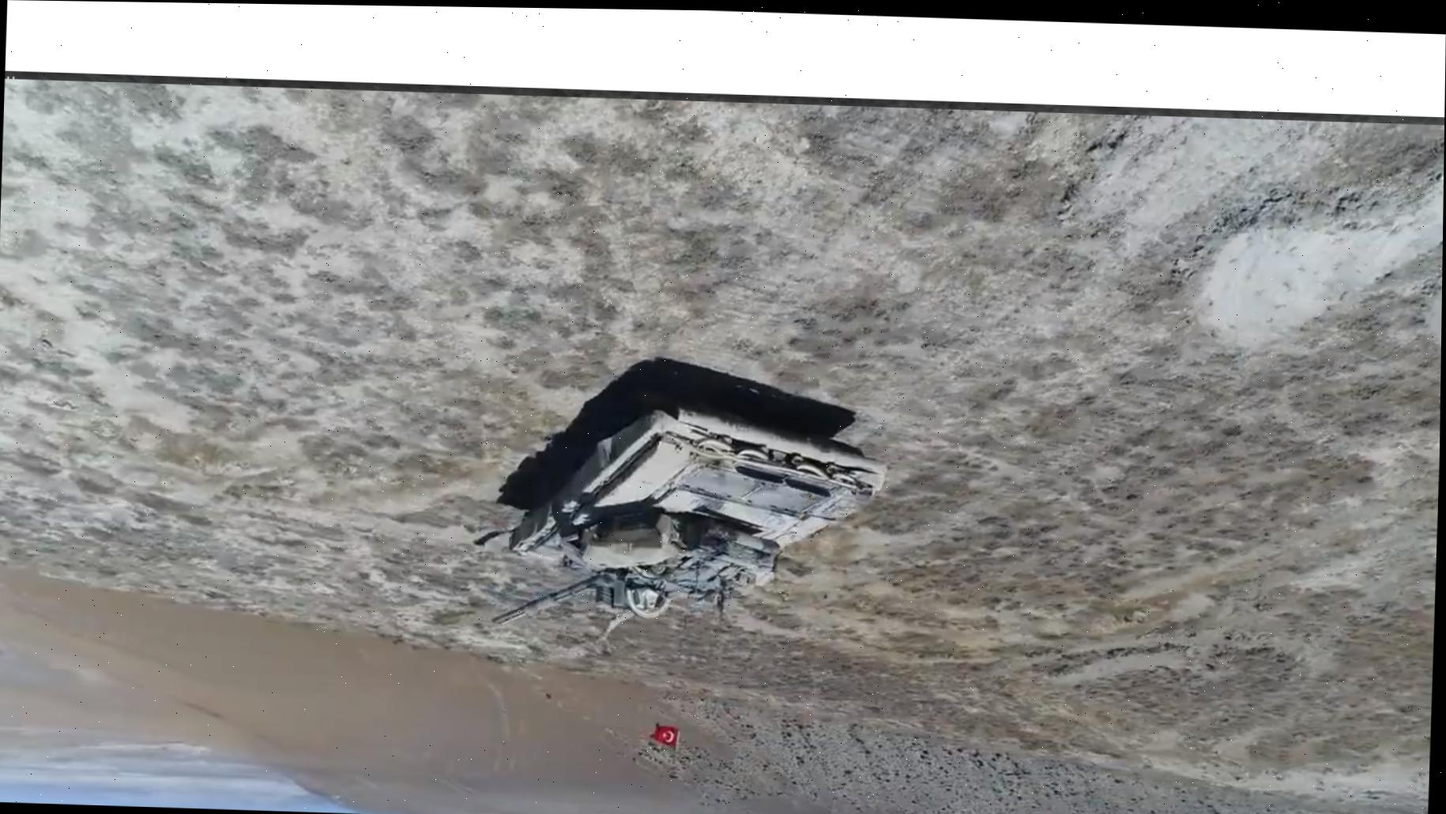tank: (473, 368, 891, 638)
